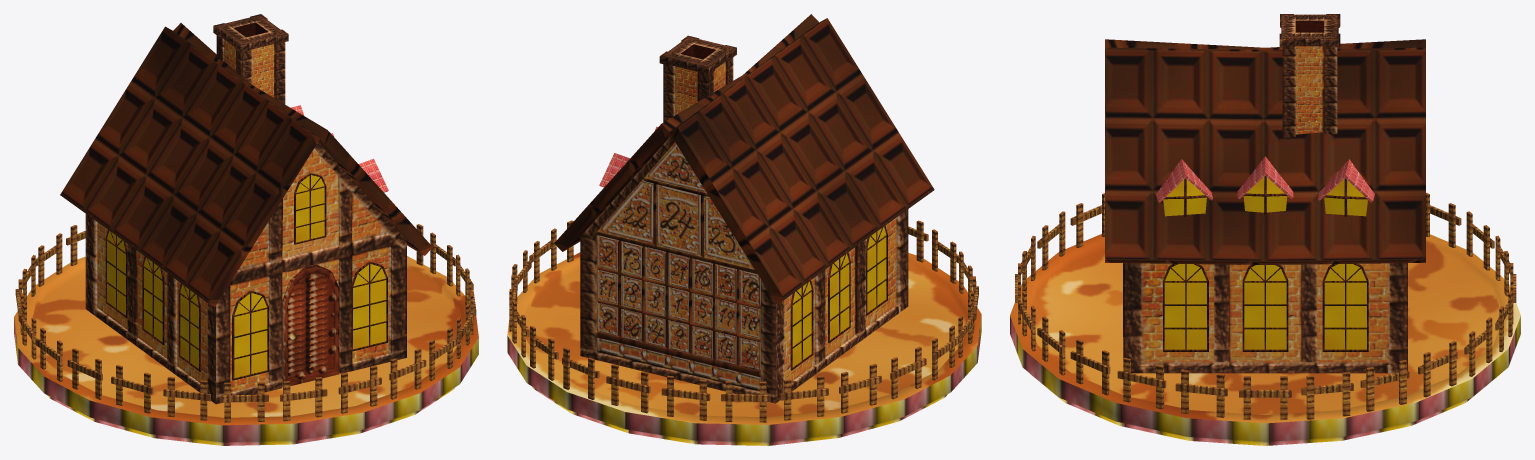
File: house_00.fbx
3 renders of one model, left to right at view 1: azimuth 30°, elevation 25°; view 2: azimuth 150°, elevation 25°; view 3: azimuth 270°, elevation 25°, orthographic. The views are drawn at different scales.
Parts seen in each view (by area): view 1: house_main, floor; view 2: house_main, floor, advent_calendar_24, advent_calendar_22, advent_calendar_23, advent_calendar_25, advent_calendar_02, advent_calendar_06, advent_calendar_03, advent_calendar_17, advent_calendar_21, advent_calendar_13 (+15 smaller); view 3: house_main, floor.
Part boxes in pixels (left/top/right/bottom): house_main: left=60, top=14, right=432, bottom=404; floor: left=14, top=224, right=478, bottom=445; house_main: left=554, top=14, right=934, bottom=403; floor: left=507, top=220, right=981, bottom=445; advent_calendar_24: left=656, top=184, right=701, bottom=256; advent_calendar_22: left=597, top=179, right=654, bottom=245; advent_calendar_23: left=703, top=196, right=754, bottom=269; advent_calendar_25: left=644, top=142, right=706, bottom=193; advent_calendar_02: left=596, top=235, right=618, bottom=271; advent_calendar_06: left=644, top=246, right=665, bottom=283; advent_calendar_03: left=715, top=264, right=737, bottom=300; advent_calendar_17: left=739, top=269, right=760, bottom=306; advent_calendar_21: left=668, top=252, right=689, bottom=289; advent_calendar_13: left=621, top=241, right=642, bottom=277; house_main: left=1105, top=14, right=1425, bottom=373; floor: left=1010, top=192, right=1520, bottom=445.
Bounding box in the file's own units: 70000 × 49529 × 70000.
